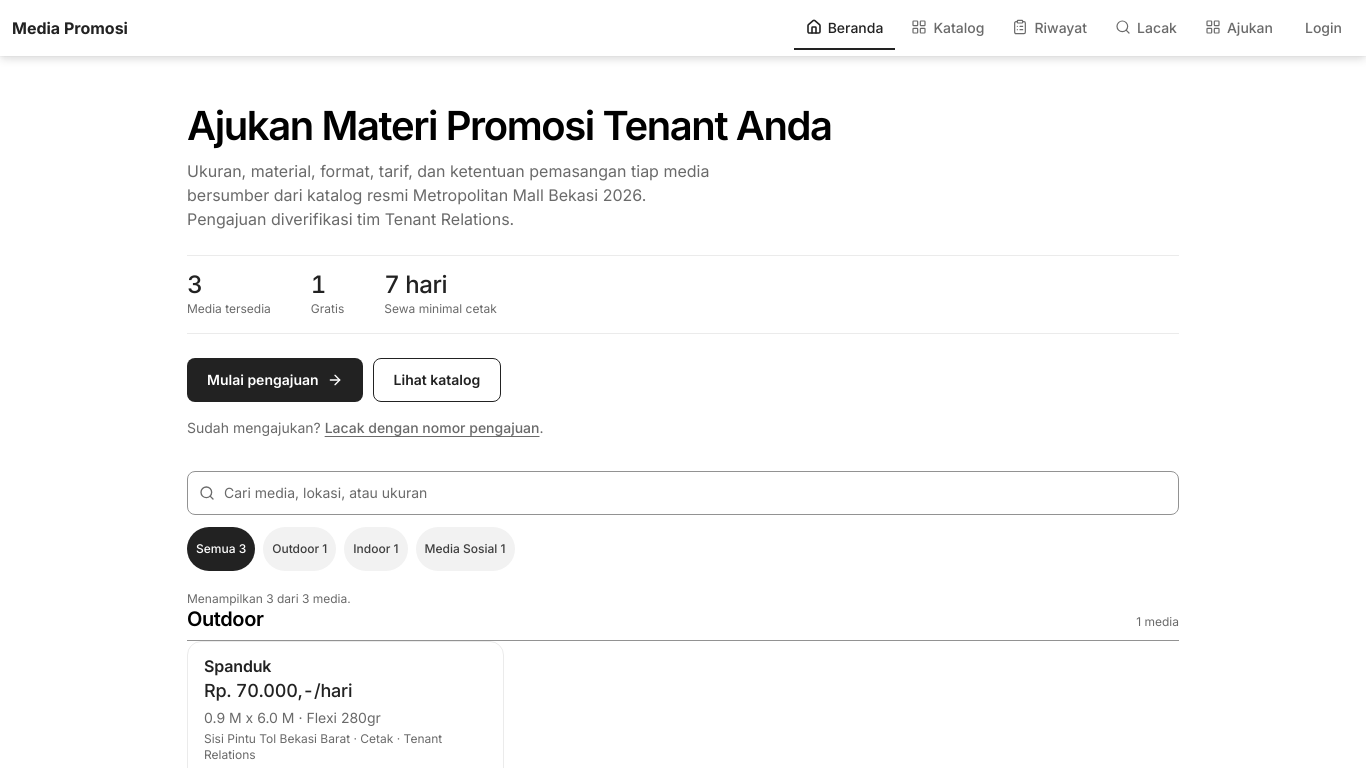
Test case: PromoLandingPage - pencarian & filter katalog › klik chip Sudah "Semua" → seluruh kartu kembali
Check: the heading "Spanduk" is shown, box [204,656,271,676]
Click the button "Indoor 1": (376, 549) [344,527,408,571]
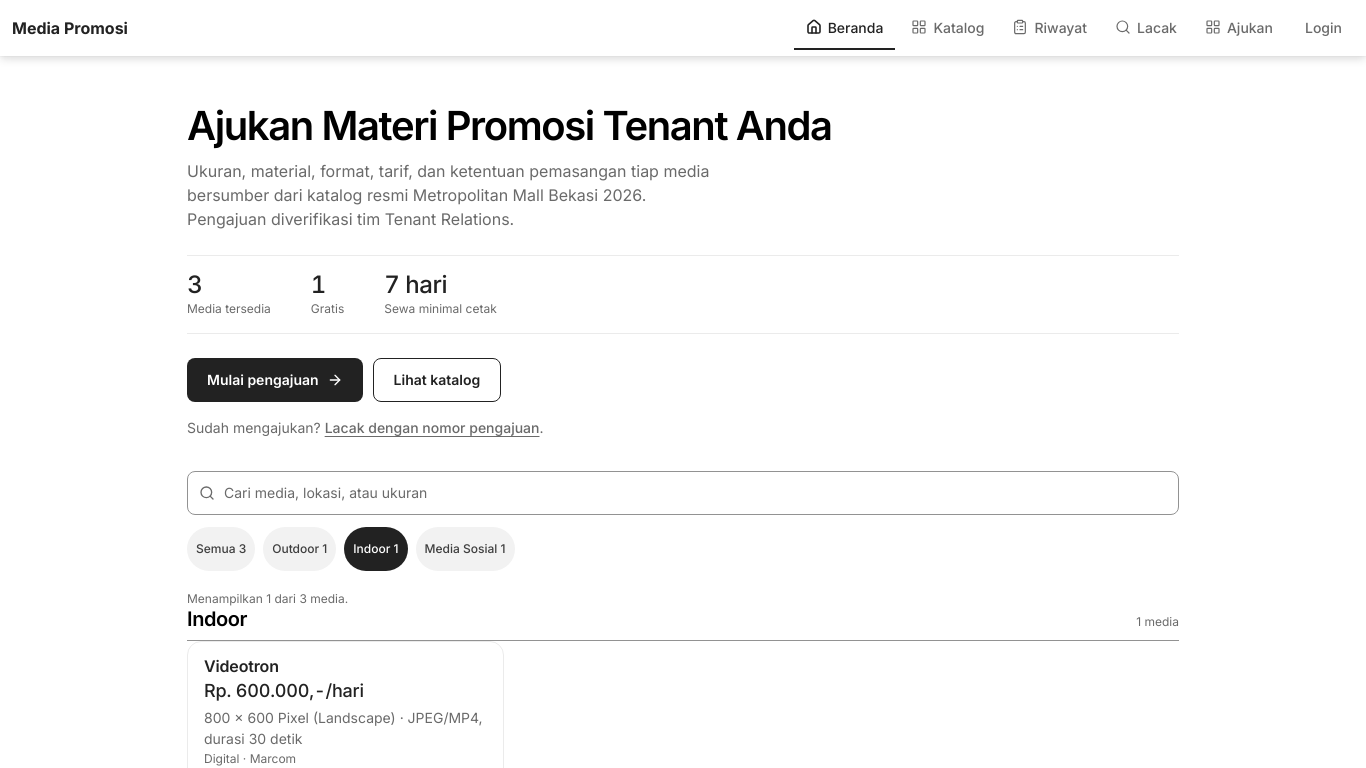
Check: the button "Semua 3" is not pressed
Click the button "Semua 3": (221, 549) [187,527,255,571]
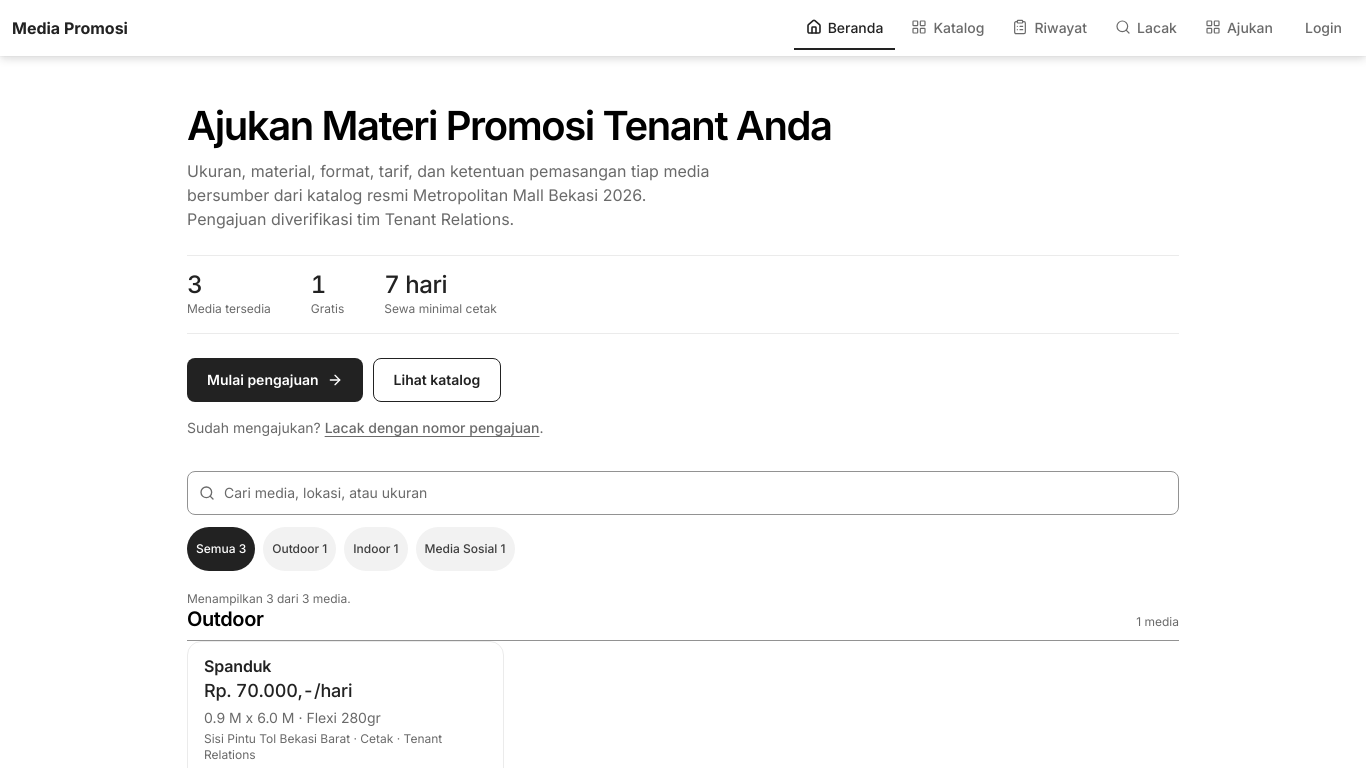
Check: the heading "Spanduk" is shown, box [204,656,271,676]
